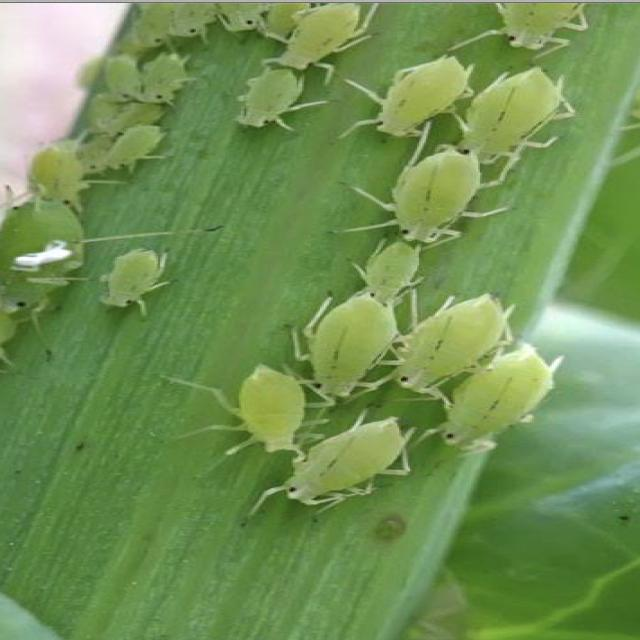aphid: (264, 413, 432, 505), (370, 145, 510, 246), (288, 296, 424, 399), (453, 59, 572, 172), (346, 51, 488, 143), (423, 342, 541, 448), (213, 363, 337, 453), (322, 230, 448, 314), (250, 7, 388, 81), (84, 240, 198, 319), (224, 67, 340, 136)
